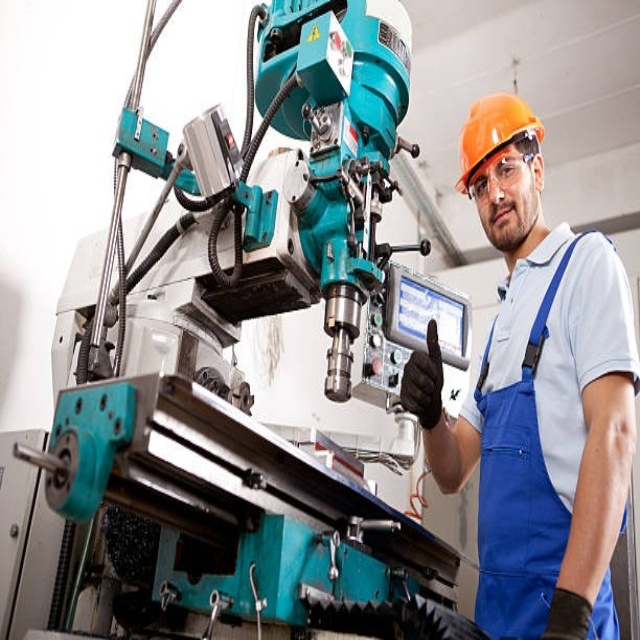Gafas: (469, 146, 536, 205)
Guantes: (399, 318, 444, 429), (536, 587, 593, 640)
Sin_mascara: (488, 201, 519, 240)
